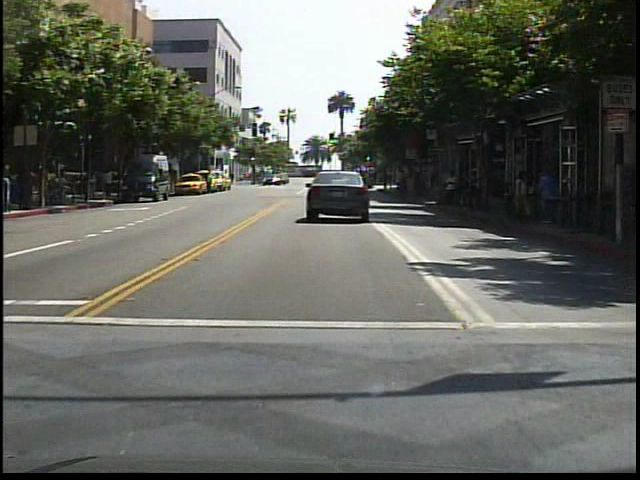person: (442, 169, 462, 211)
